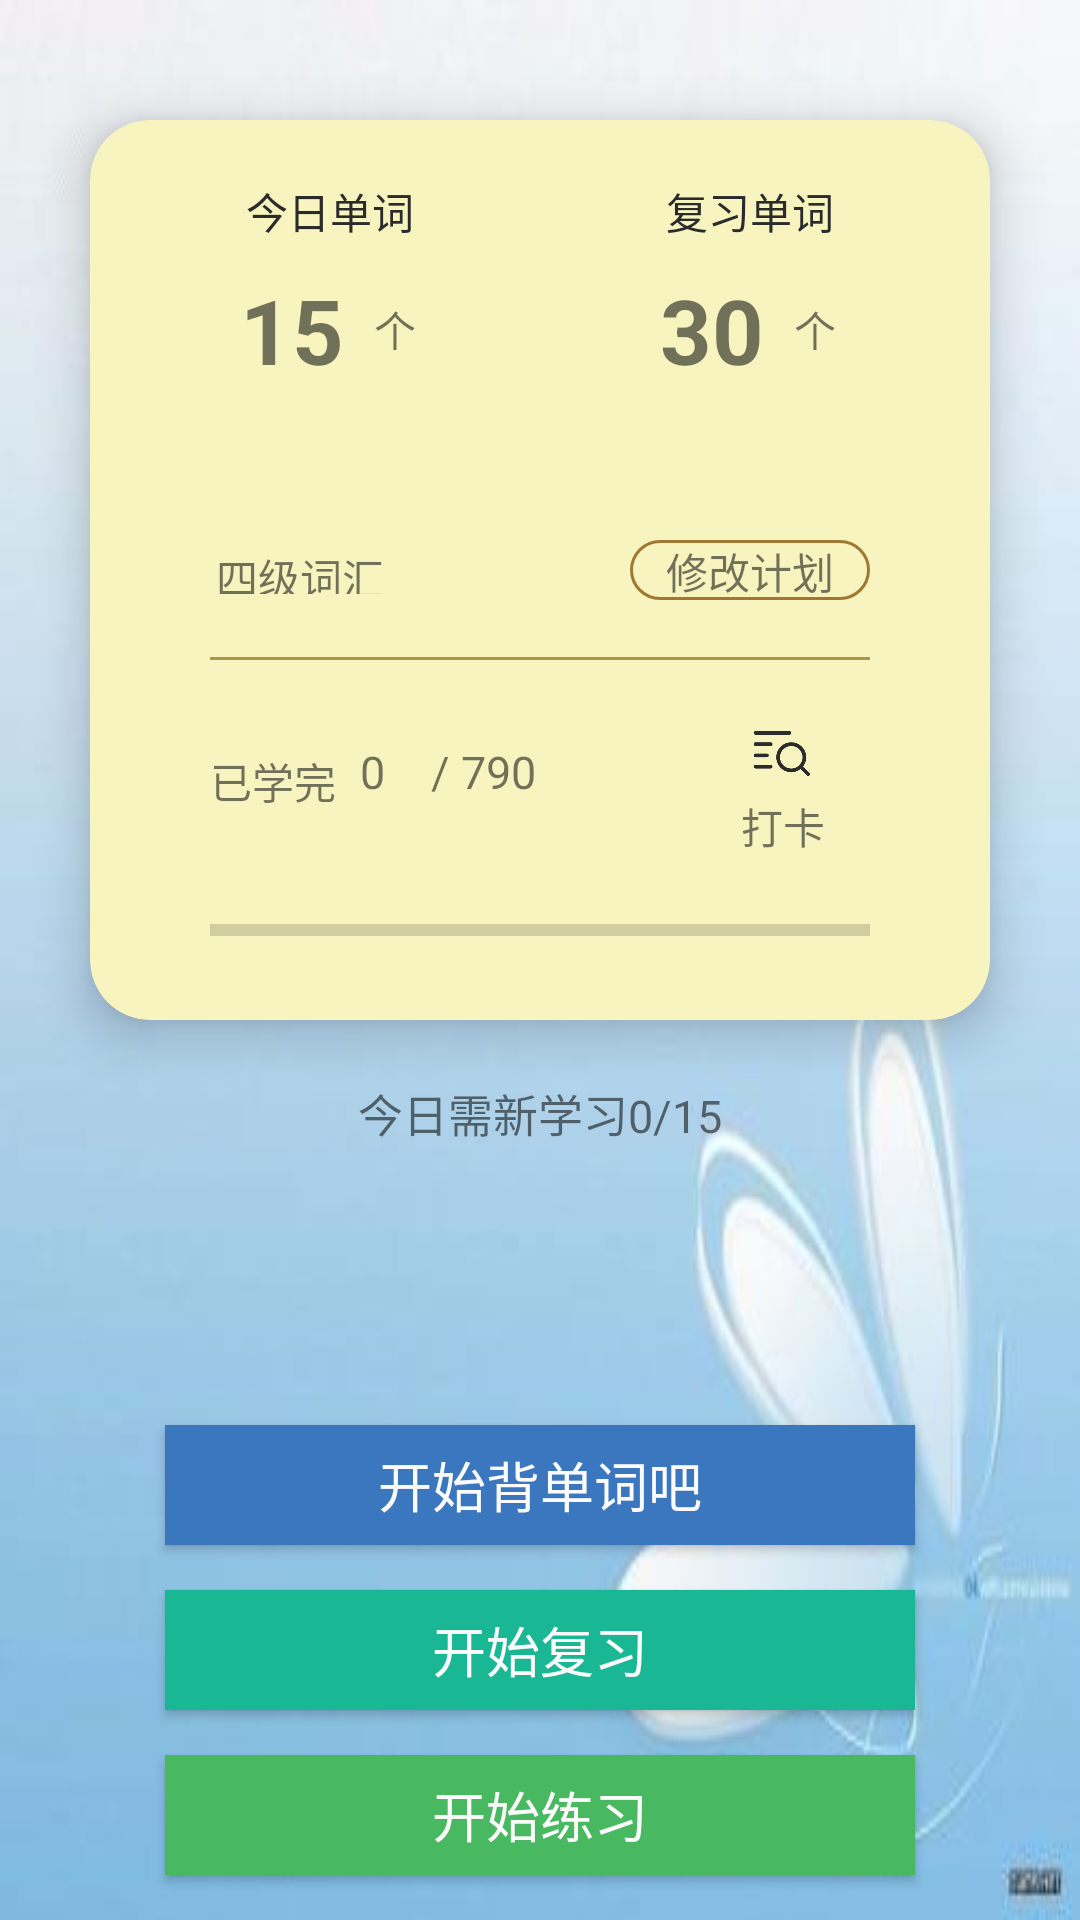

Named icons in this screenshot (1080x1920) and their centers, (x,y):
leibiao: (782,753)
